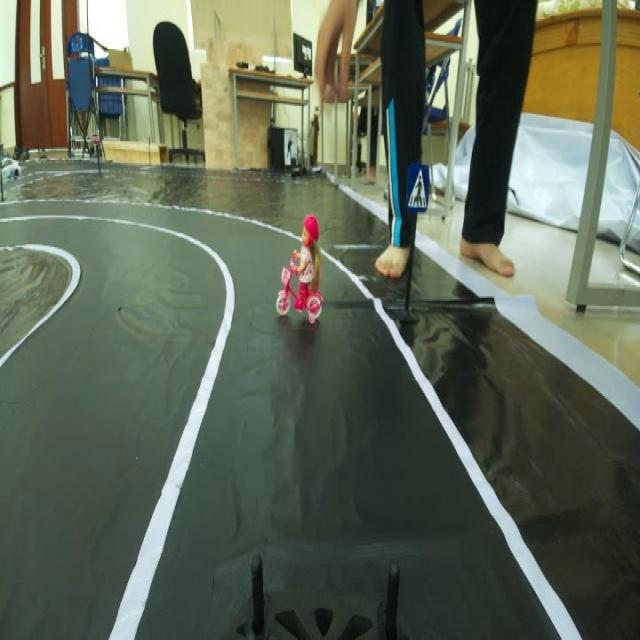crosswalk: (406, 151, 433, 228)
pedestrian: (278, 202, 334, 333)
